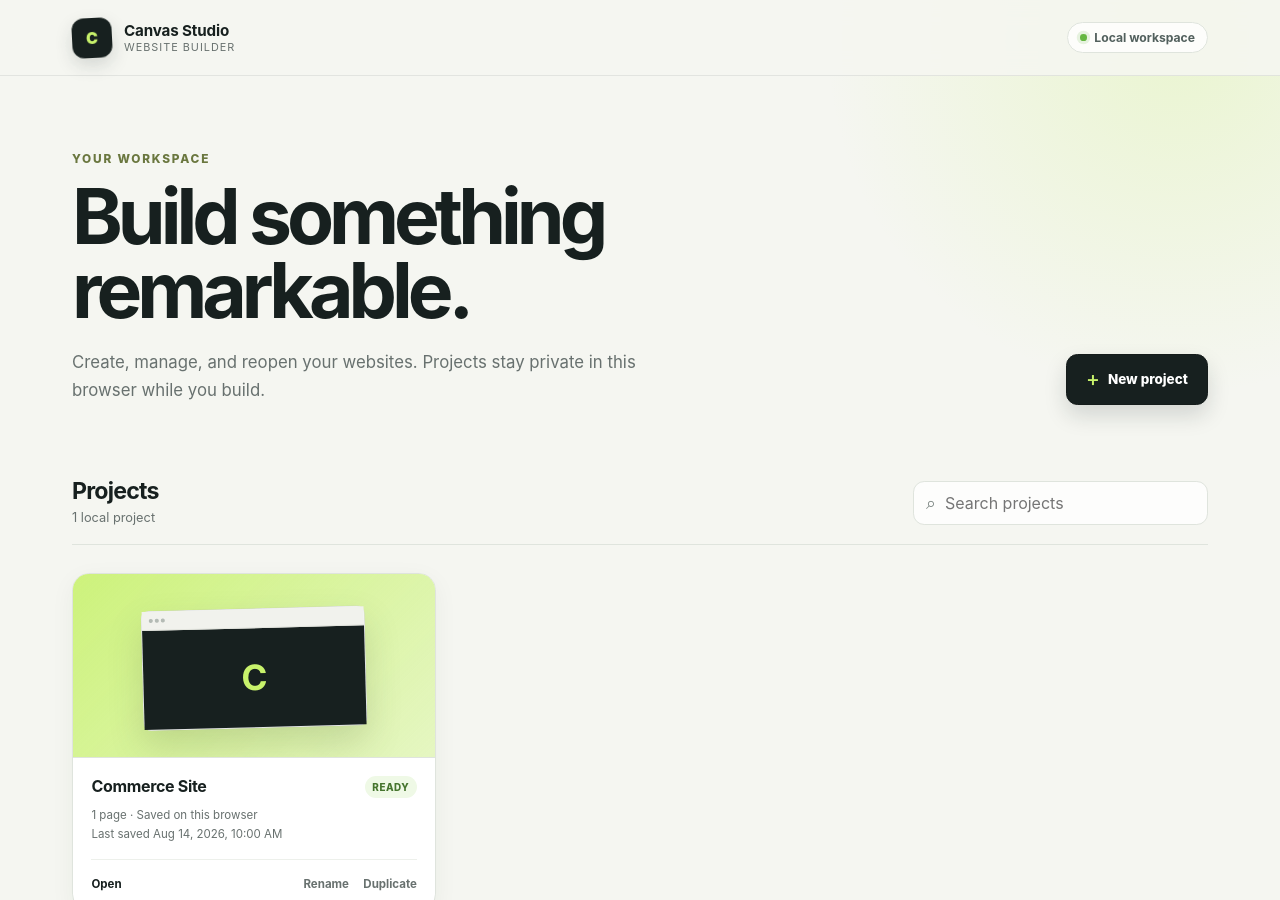
Scenario: ProjectDashboard › should keep a pending rename failure visible after Escape
Click the button "Rename" at (326, 884), box [303,874,349,894]
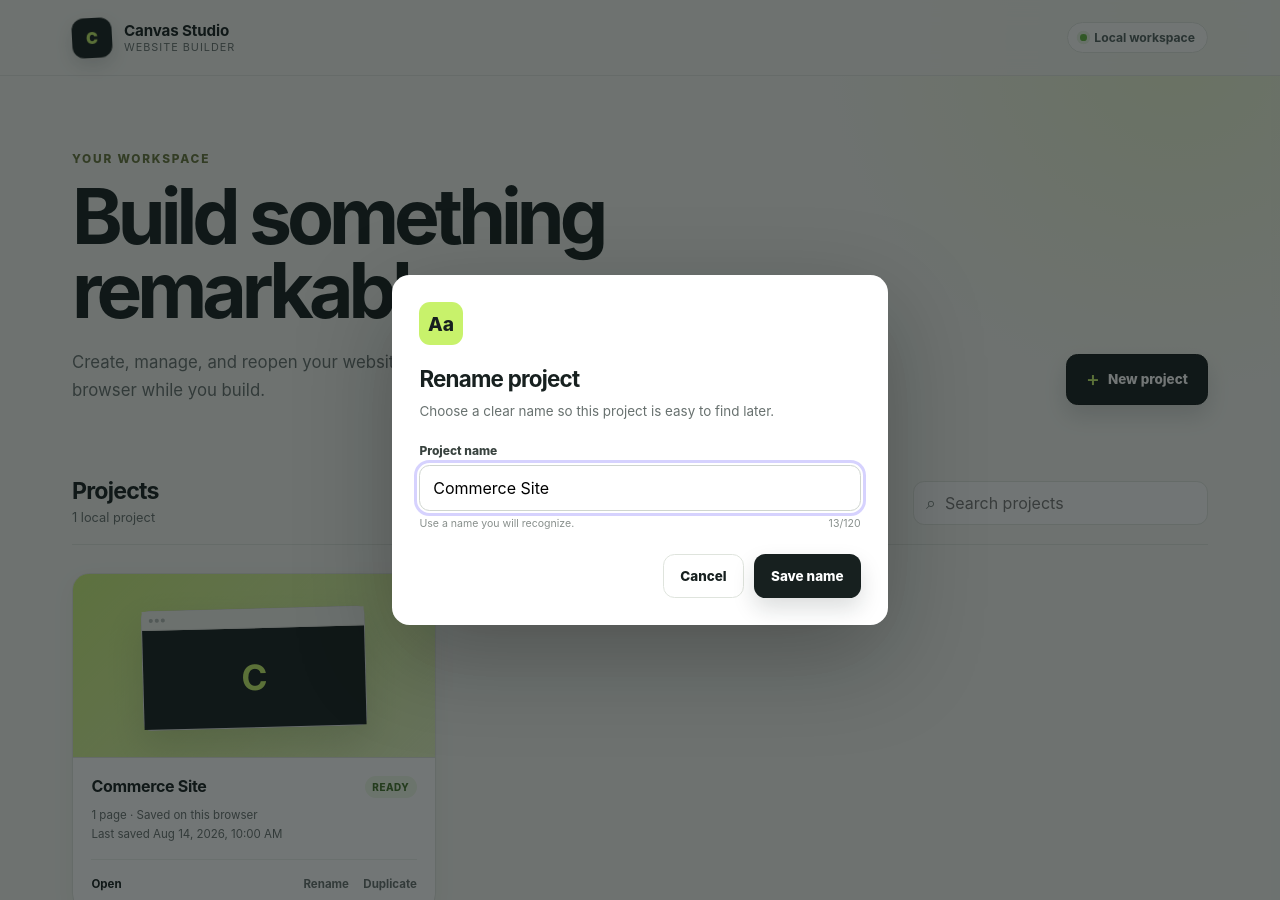
Replace the text in the field labelled "Project name" with "Renamed Store" at (640, 488), box [419,465,861,511]
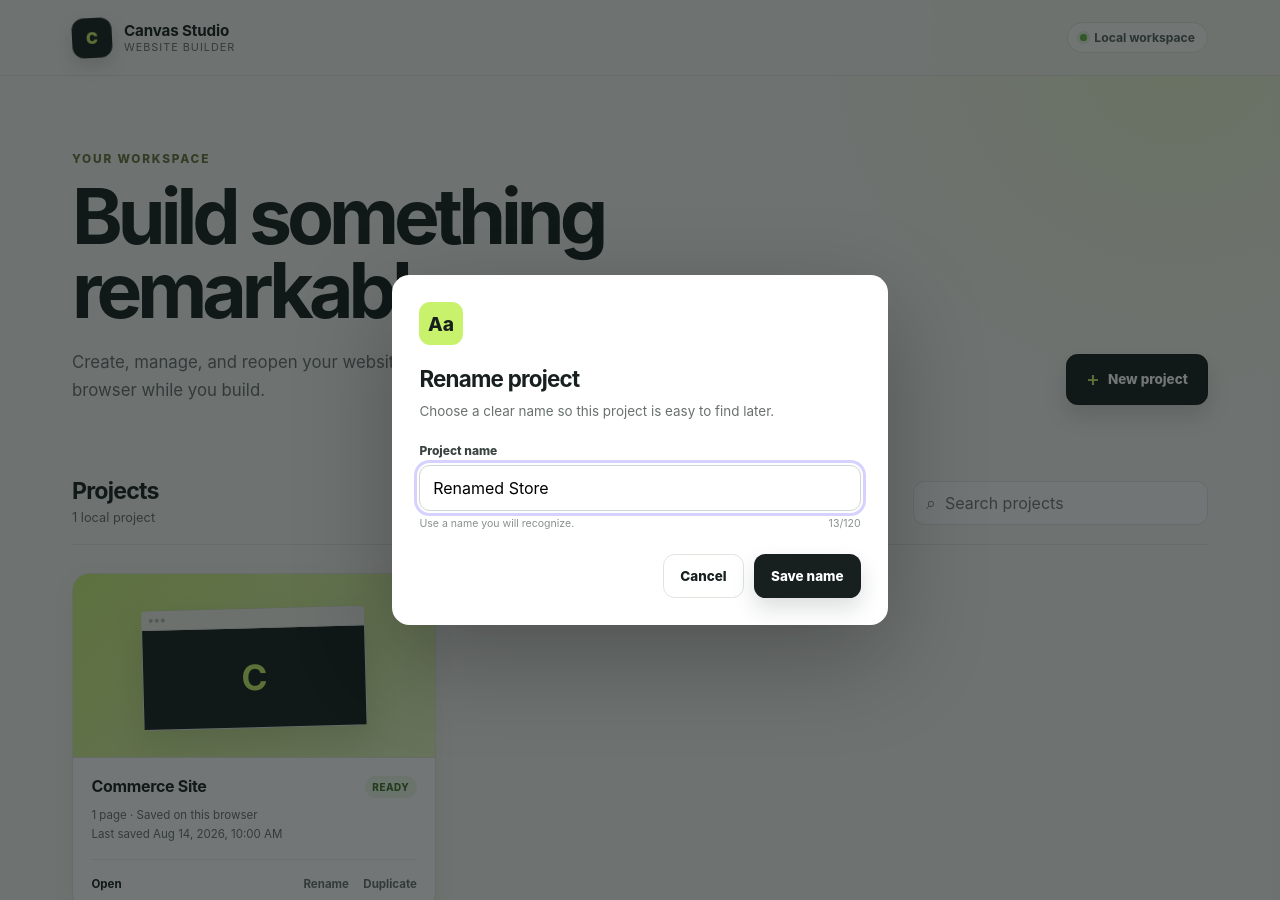
Click the button "Save name" at (807, 576), box [754,554,861,598]
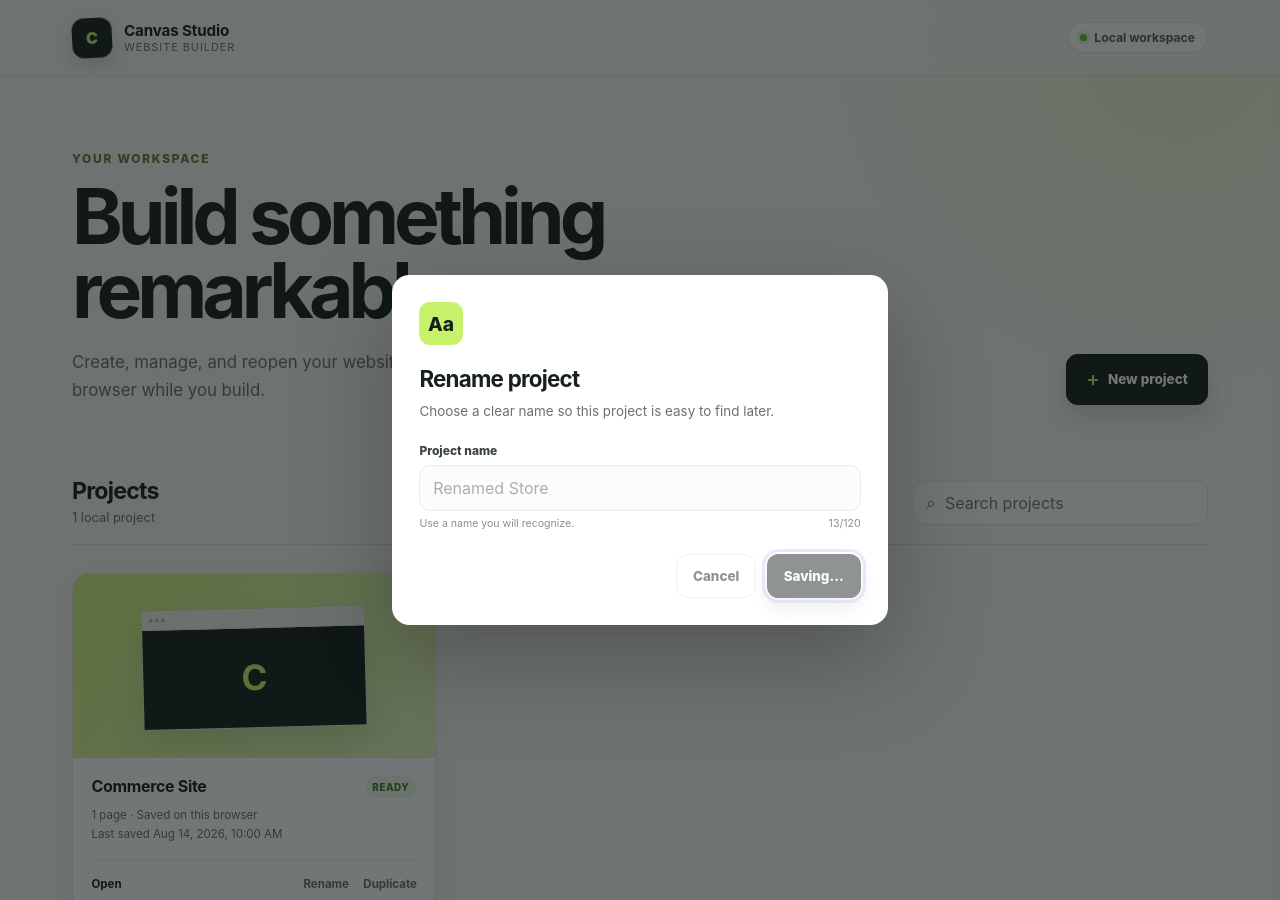
Now the button "Saving…" is disabled, box [767,554,861,598]
Press Escape
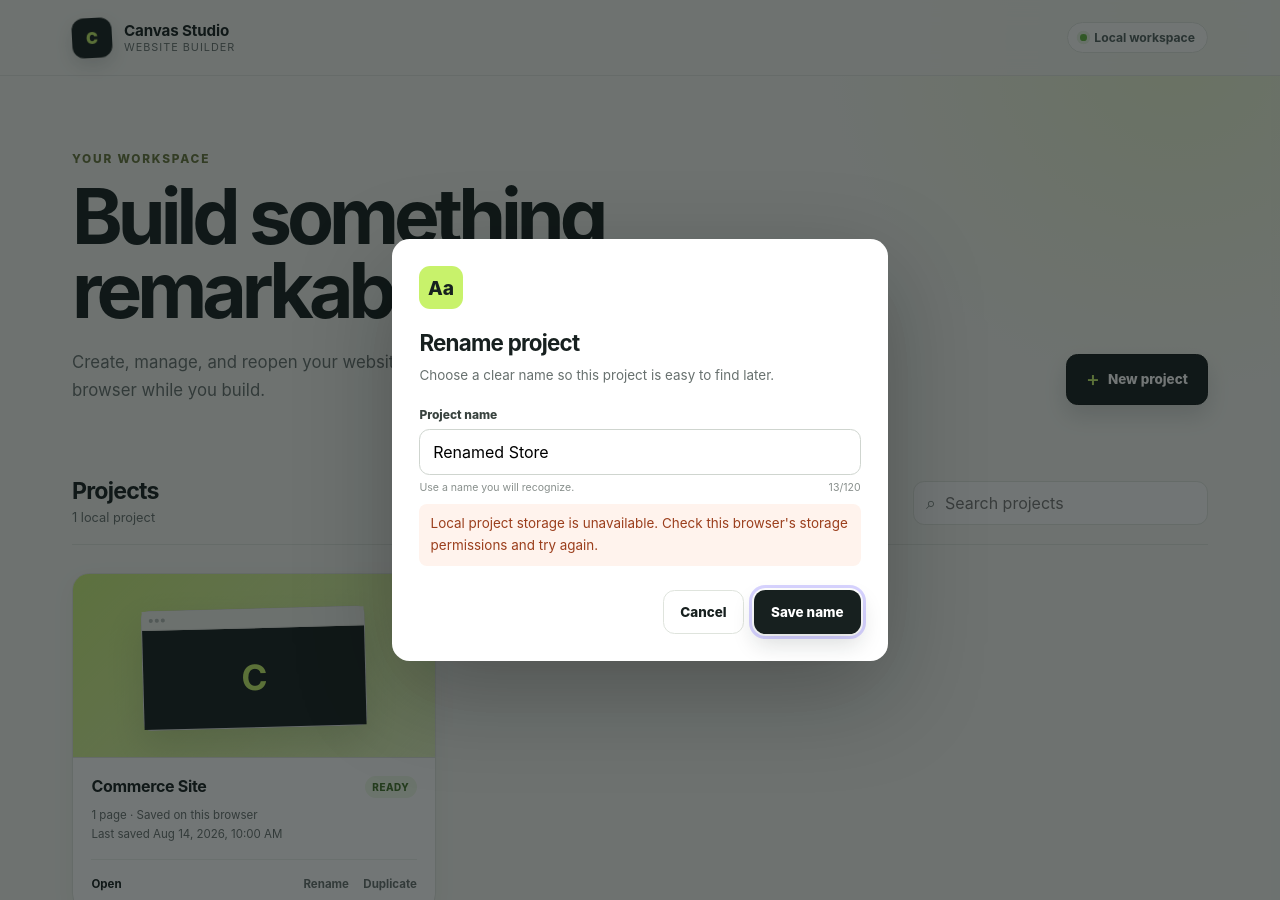
Now the dialog "Rename project" is shown, box [392,239,888,661]
Now the message shows "Local project storage is unavailable. Check this browser's storage permissions and try again.", box [431,515,848,553]
